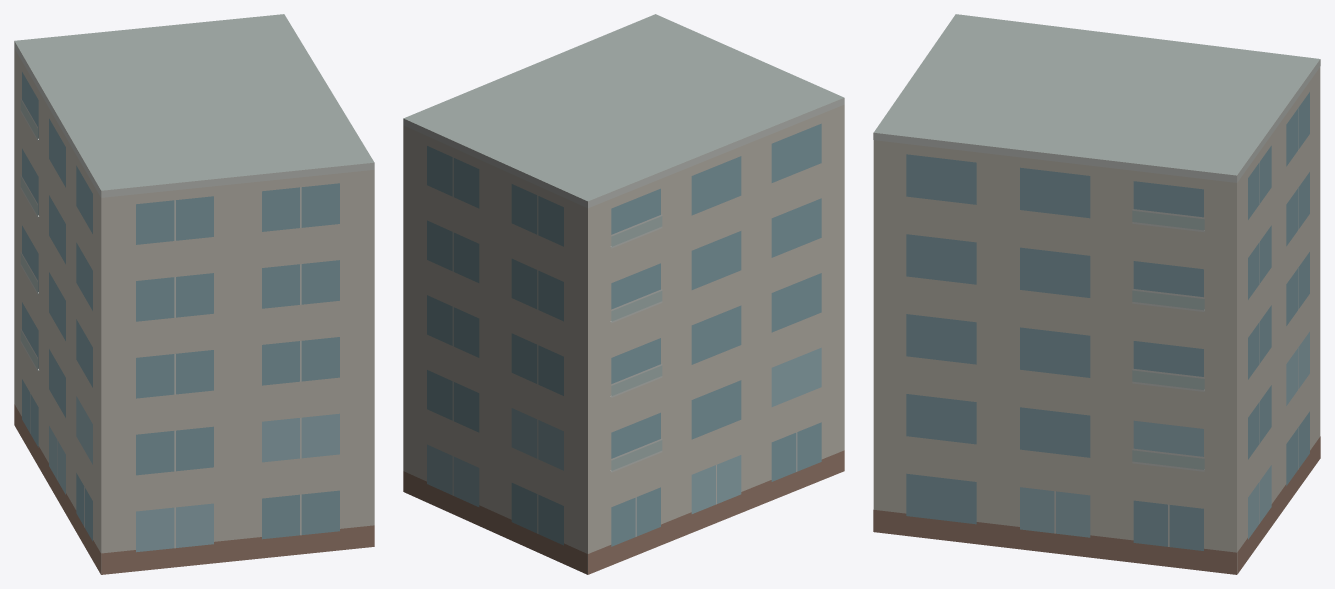
File: survey-upis-33019696.glb
The picture shows the model from 3 angles, left to right: view 1: azimuth 30°, elevation 25°; view 2: azimuth 150°, elevation 25°; view 3: azimuth 270°, elevation 25°; orthographic projection. The views are drawn at different scales.
Visible parts, largest first — view 1: survey-upis-33019696.tmp; view 2: survey-upis-33019696.tmp; view 3: survey-upis-33019696.tmp.
Part boxes in pixels (box(x1,y1,x2,y2)): survey-upis-33019696.tmp: box(14, 14, 374, 574); survey-upis-33019696.tmp: box(403, 14, 844, 574); survey-upis-33019696.tmp: box(873, 14, 1320, 574).
Bounding box in the file's own units: 11.46 × 13.2 × 13.4.
